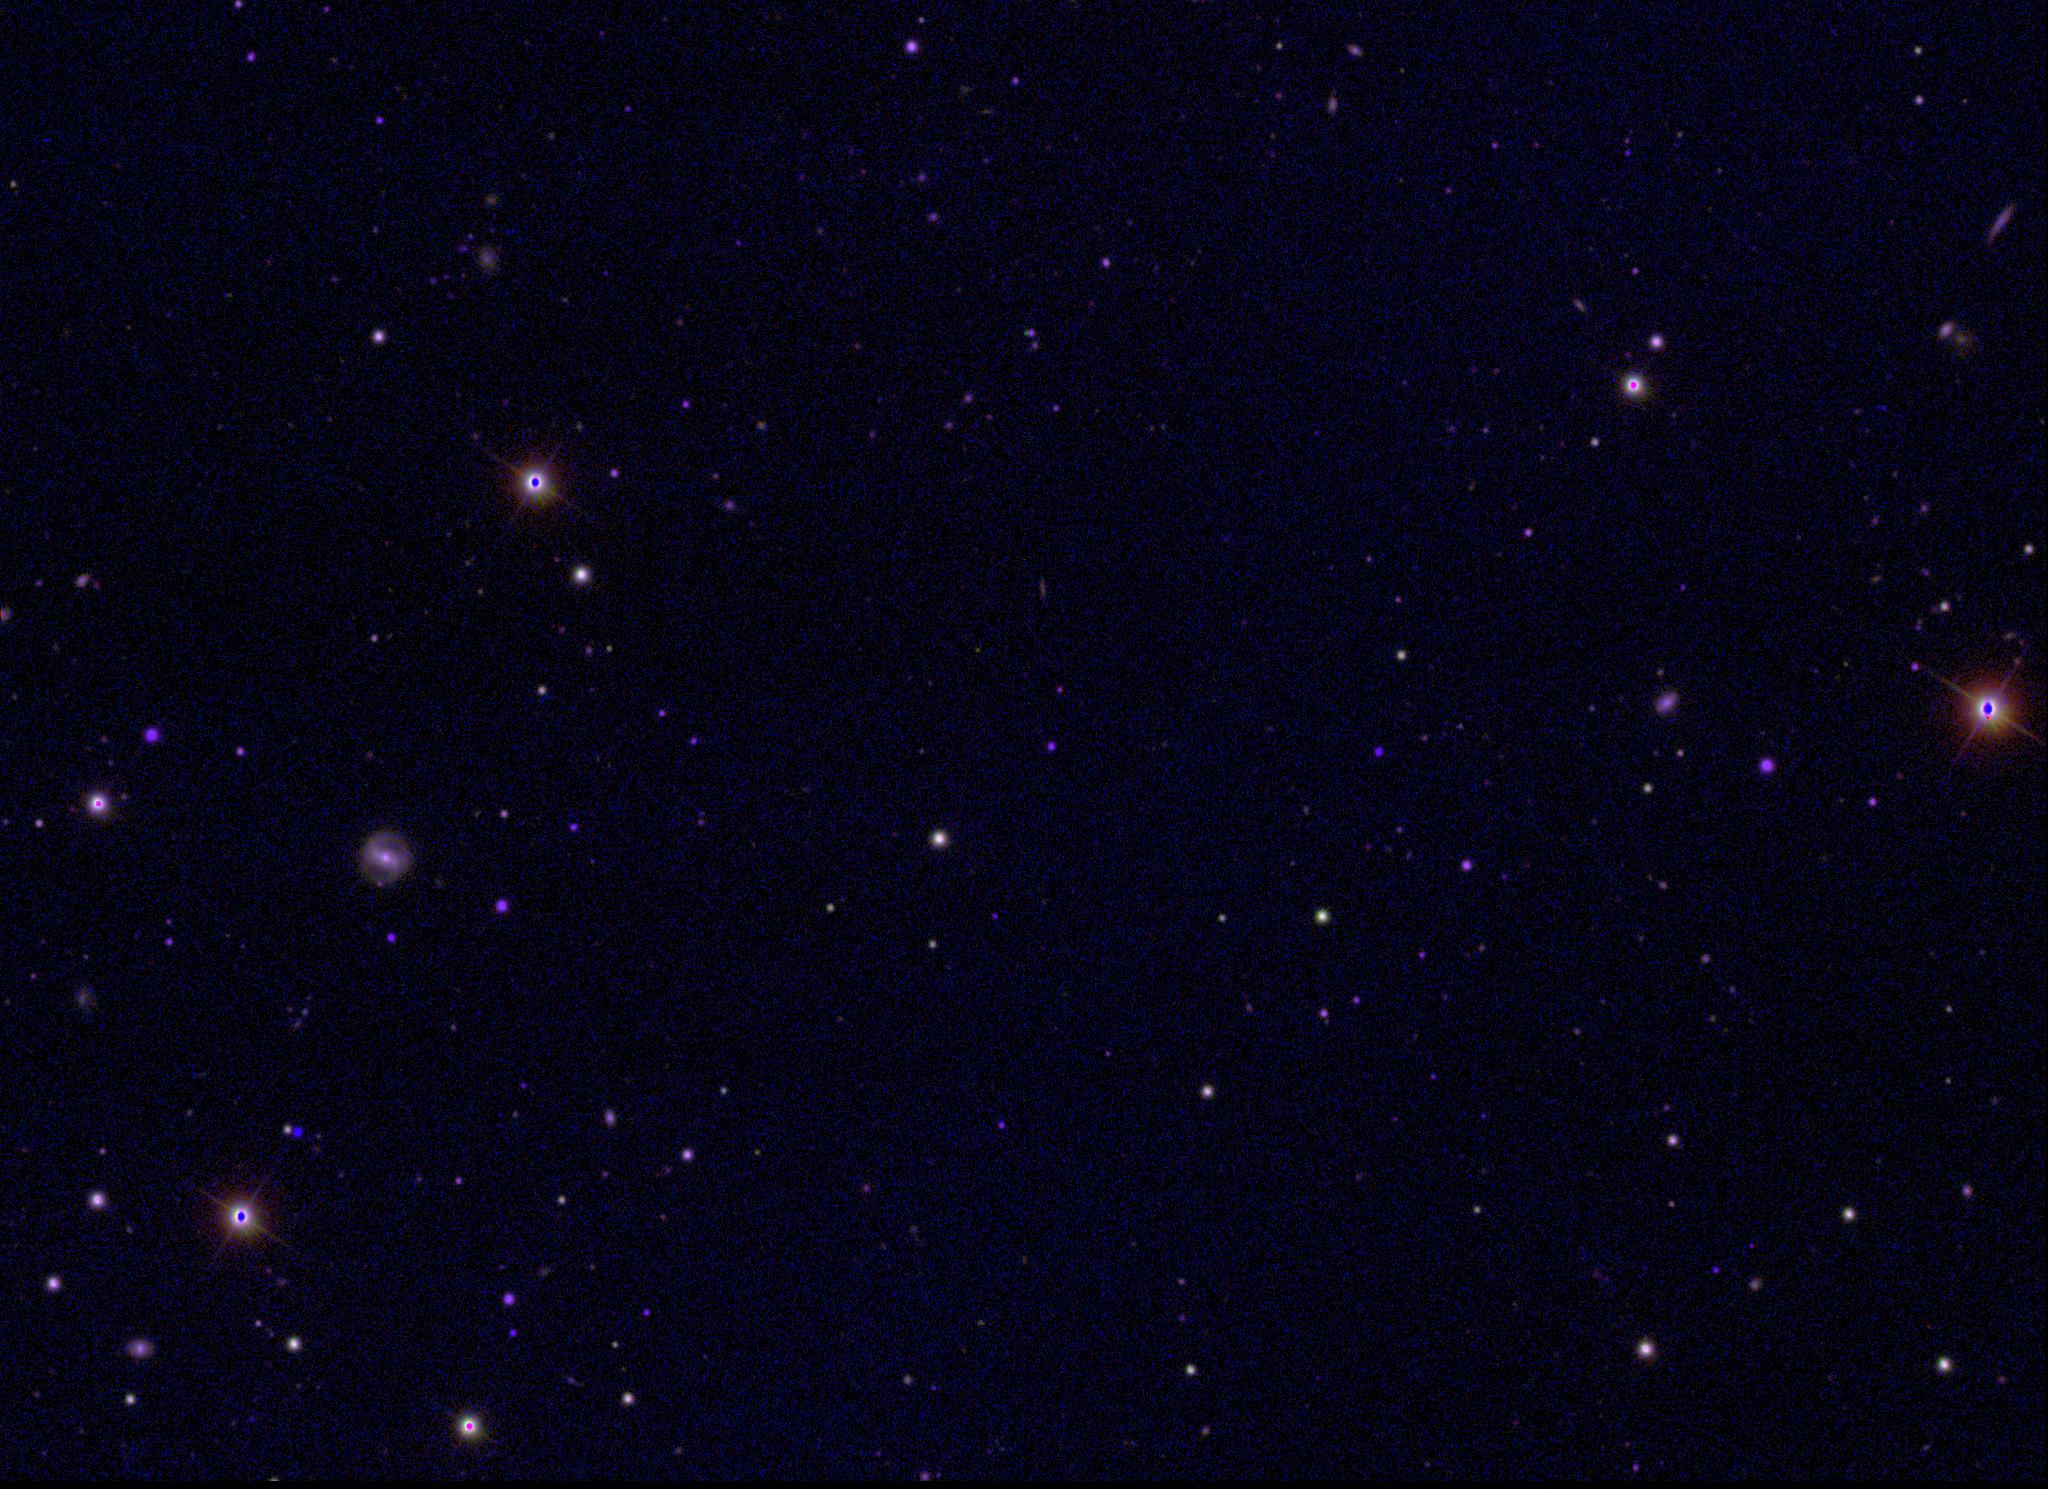L: (291, 1125, 305, 1139)
